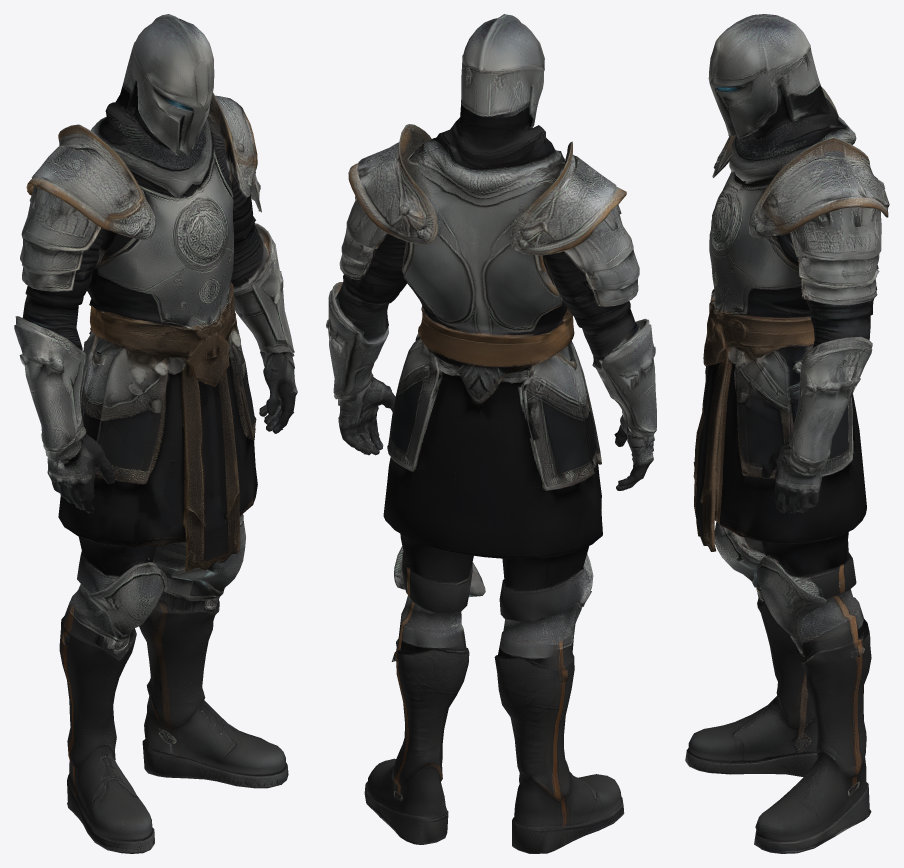
Rendered from celestial-warrior.glb.
The picture shows the model from 3 angles, left to right: view 1: azimuth 30°, elevation 25°; view 2: azimuth 150°, elevation 25°; view 3: azimuth 270°, elevation 25°; orthographic projection.
Size of the model in its own units: 0.3662 by 0.9517 by 0.2251.
1 material, 1 textured.
